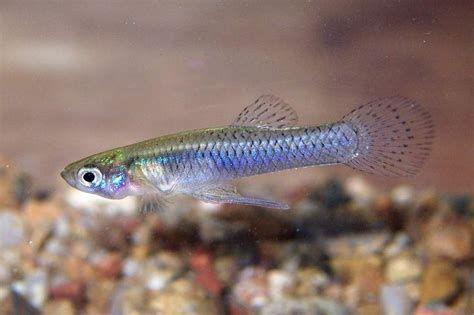Mosquito Fish: (61, 87, 433, 219)
